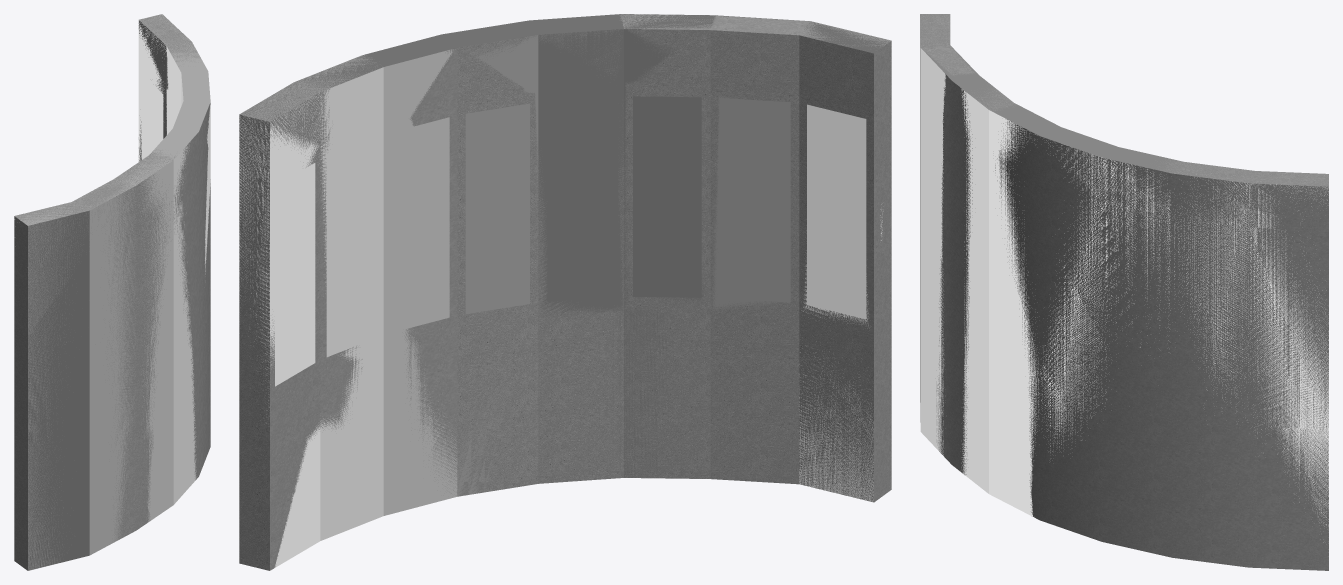
File: SM_WallCorn_a.fbx
3 views of the same model, side by side, from view 1: azimuth 30°, elevation 25°; view 2: azimuth 150°, elevation 25°; view 3: azimuth 270°, elevation 25° (orthographic). The views are drawn at different scales.
Visible parts, largest first — view 1: SM_WallCorn_a_ConvexHulls, SM_WallCorn_a_LOD0; view 2: SM_WallCorn_a_ConvexHulls, SM_WallCorn_a_LOD0; view 3: SM_WallCorn_a_LOD0, SM_WallCorn_a_ConvexHulls.
Boxes of the visible parts, x1,y1,x2,y2 form: SM_WallCorn_a_ConvexHulls: [14, 14, 210, 570]; SM_WallCorn_a_LOD0: [14, 14, 210, 570]; SM_WallCorn_a_ConvexHulls: [239, 14, 889, 567]; SM_WallCorn_a_LOD0: [239, 14, 891, 570]; SM_WallCorn_a_LOD0: [920, 14, 1328, 570]; SM_WallCorn_a_ConvexHulls: [920, 14, 1328, 542].
Size of the model in its own units: 1350 by 1350 by 1400.
2 materials, 1 textured.
